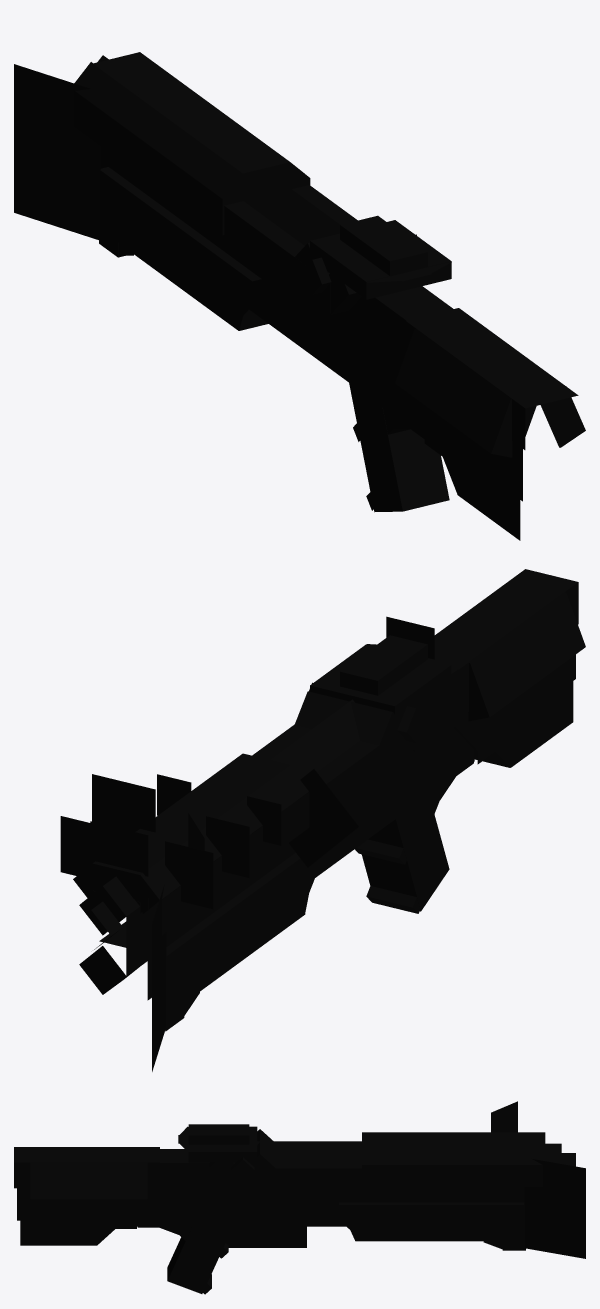
The model's file is jeg_supersonic_shotgun.glb.
The picture shows the model from 3 angles, top to bottom: view 1: azimuth 30°, elevation 25°; view 2: azimuth 150°, elevation 25°; view 3: azimuth 270°, elevation 25°; orthographic projection. The views are drawn at different scales.
Parts seen in each view (by area): view 1: Gun; view 2: Gun; view 3: Gun.
Part boxes in pixels (box(x1,y1,x2,y2)): Gun: box(14, 52, 585, 540); Gun: box(60, 569, 585, 1071); Gun: box(14, 1101, 585, 1294).
Size of the model in its own units: 0.1852 by 0.2891 by 0.858.
1 material, 1 textured.
